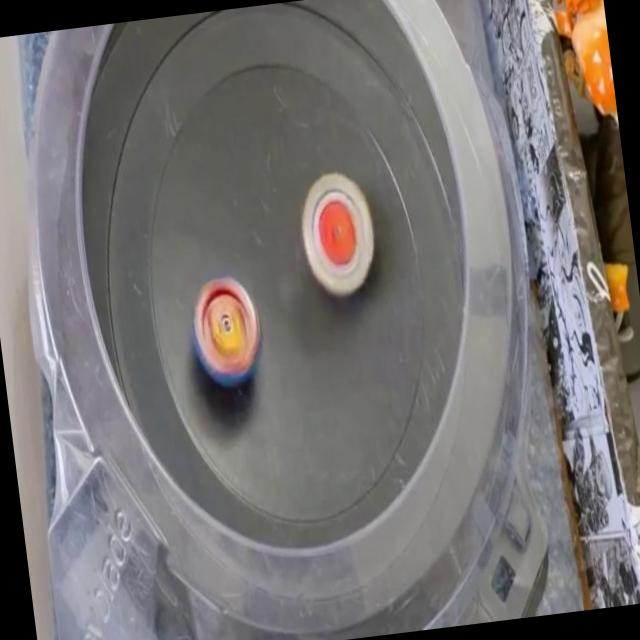Beyblade: (294, 170, 382, 300), (186, 274, 268, 389)
